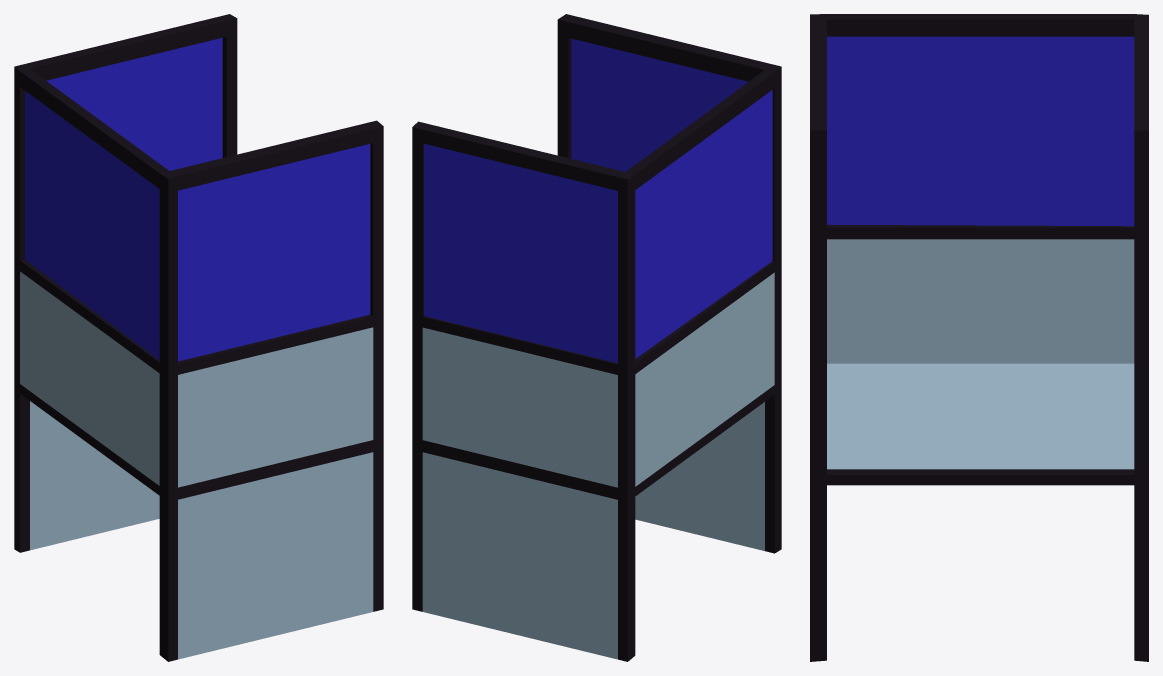
The model's file is Objeto_CubiculoSalaEscura_1.0.fbx.
3 views of the same model, side by side, from view 1: azimuth 30°, elevation 25°; view 2: azimuth 150°, elevation 25°; view 3: azimuth 270°, elevation 25° (orthographic). The views are drawn at different scales.
Visible parts, largest first — view 1: cabine, vidro; view 2: cabine, vidro; view 3: cabine, vidro.
Boxes of the visible parts, x1,y1,x2,y2 form: cabine: (14,14,383,661); vidro: (25,37,370,361); cabine: (412,14,781,661); vidro: (424,38,772,363); cabine: (810,14,1148,661); vidro: (827,36,1134,226).
Bounding box in the file's own units: 270 × 574 × 331.
